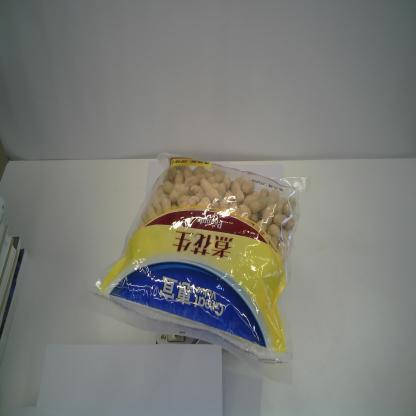Dried Food: (76, 147, 312, 387)
